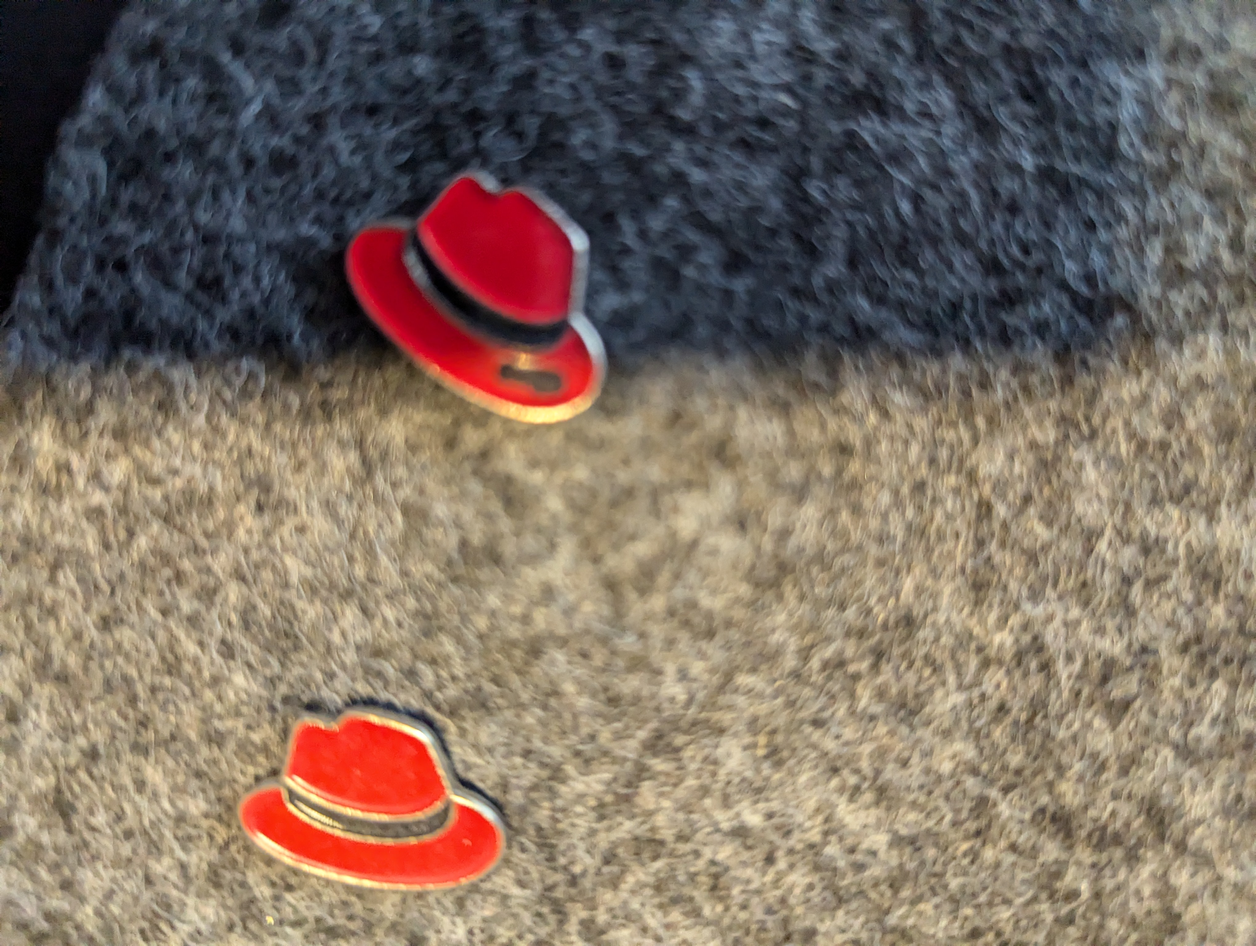Red-Hat: (325, 145, 646, 452), (220, 675, 533, 917)
Scratch: (495, 355, 576, 406)
